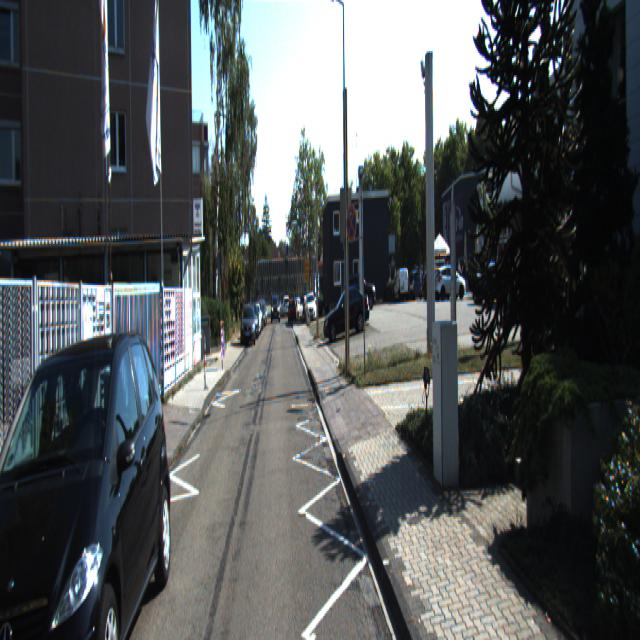Car: (0, 328, 172, 638), (322, 288, 372, 349), (433, 264, 467, 301), (239, 304, 257, 348), (394, 266, 409, 302)
